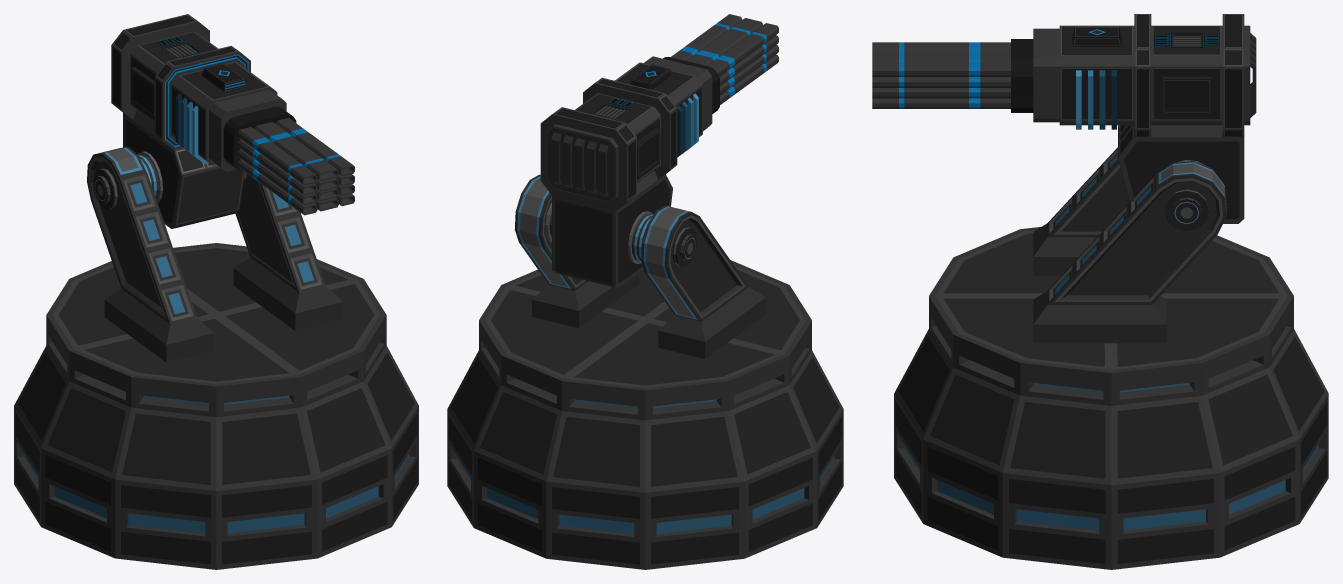
3 renders of one model, left to right at view 1: azimuth 30°, elevation 25°; view 2: azimuth 150°, elevation 25°; view 3: azimuth 270°, elevation 25°, orthographic. The views are drawn at different scales.
Parts seen in each view (by area): view 1: PTB003, BT, NTB003; view 2: PTB003, BT, NTB003; view 3: PTB003, BT, NTB003.
Boxes of the visible parts, <box> form: PTB003: <box>14,243,418,569</box>; BT: <box>111,14,354,228</box>; NTB003: <box>87,147,342,362</box>; PTB003: <box>447,260,843,569</box>; BT: <box>540,14,778,288</box>; NTB003: <box>514,174,765,358</box>; PTB003: <box>894,226,1328,569</box>; BT: <box>872,14,1256,223</box>; NTB003: <box>1033,147,1226,343</box>.
Bounding box in the file's own units: 782 × 888 × 821.
